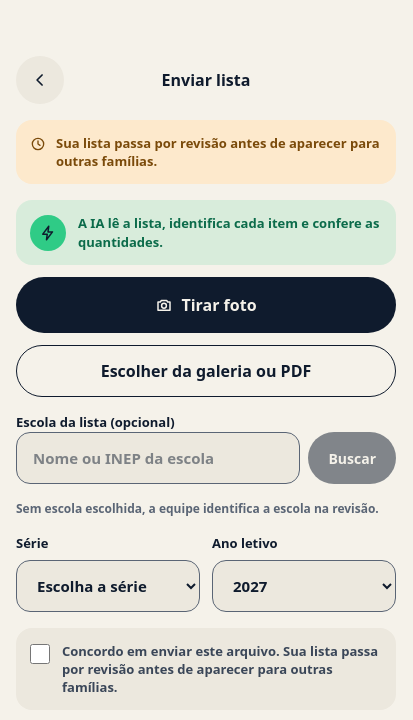
Test: SubmitForm (App15/App06) › sem arquivo ou sem série: bloqueia
Click the checkbox: (40, 654) [30,644,50,664]
(page scrolled)
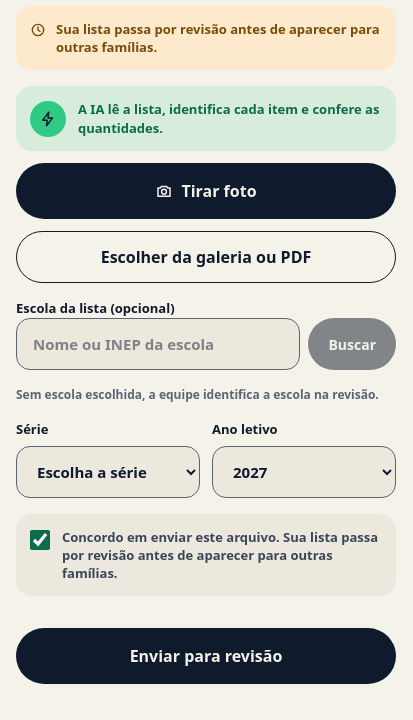
Click the button "Enviar para revisão": (206, 656) [16,628,396,684]
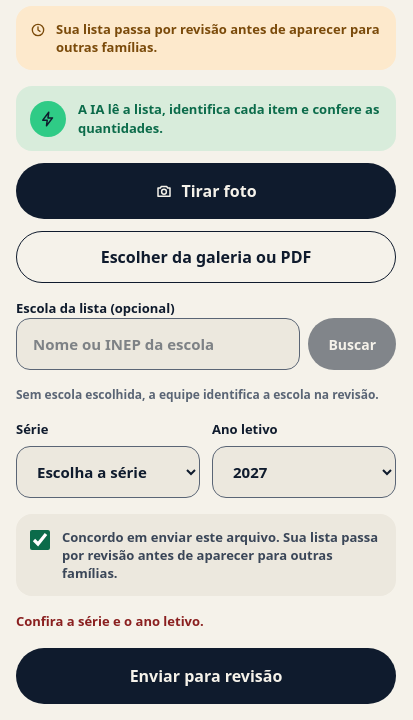
expect the message shows "Confira a série": met, box [16,612,204,630]
Select "5º ano" in the dropdown labelled "Série": (108, 472) [16,446,200,498]
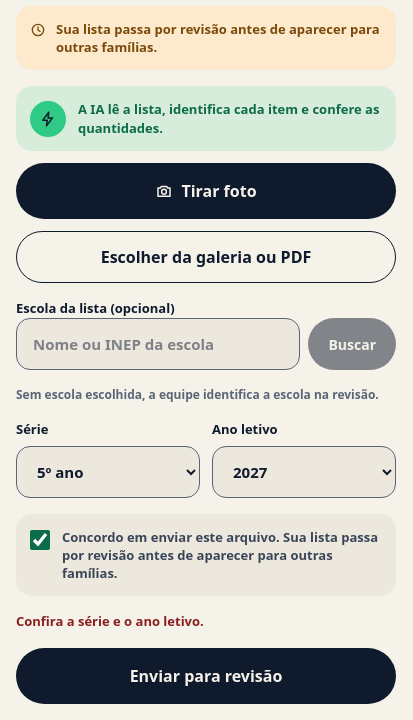
Click the button "Enviar para revisão": (206, 676) [16,648,396,704]
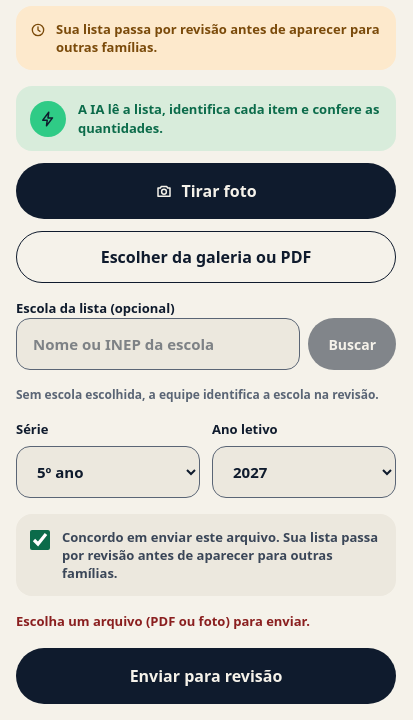
expect the message shows "Escolha um arquivo": met, box [16,612,310,630]
